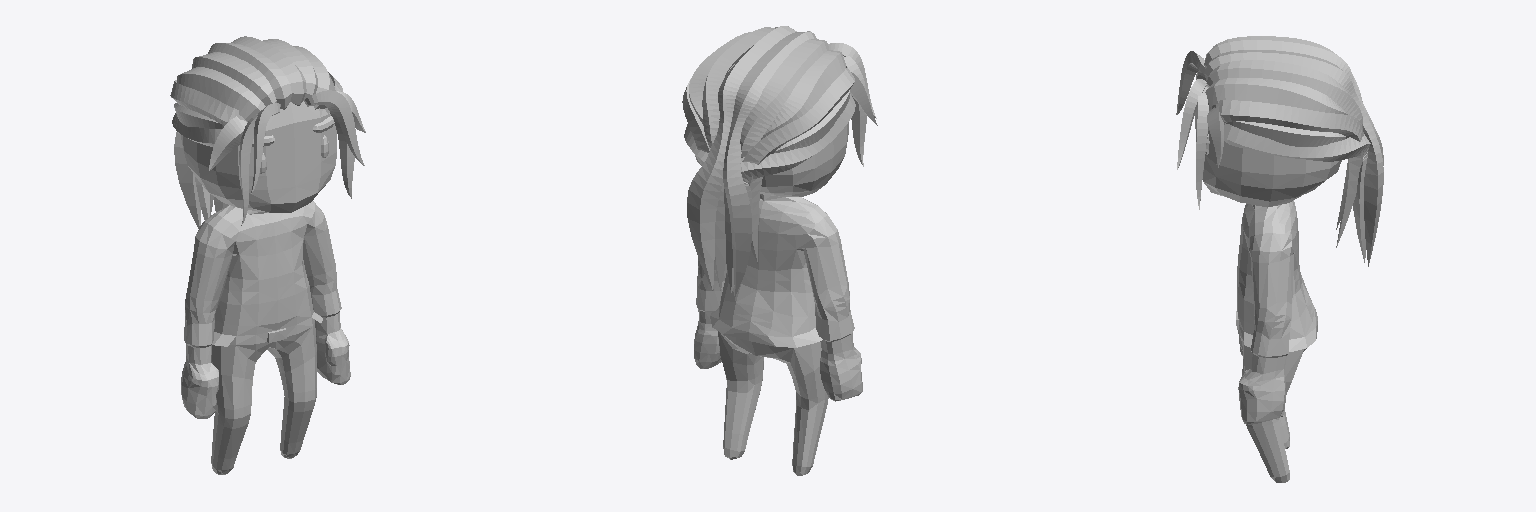
The model's file is Suit_Female.obj.
3 renders of one model, left to right at view 1: azimuth 30°, elevation 25°; view 2: azimuth 150°, elevation 25°; view 3: azimuth 270°, elevation 25°, orthographic.
Parts seen in each view (by area): view 1: Body_Cube.004; view 2: Body_Cube.004; view 3: Body_Cube.004.
Part boxes in pixels (bbox=[...]): Body_Cube.004: bbox=[170, 36, 365, 474]; Body_Cube.004: bbox=[682, 26, 877, 475]; Body_Cube.004: bbox=[1176, 36, 1383, 482].
Bounding box in the file's own units: 1.28 × 3.16 × 1.42.